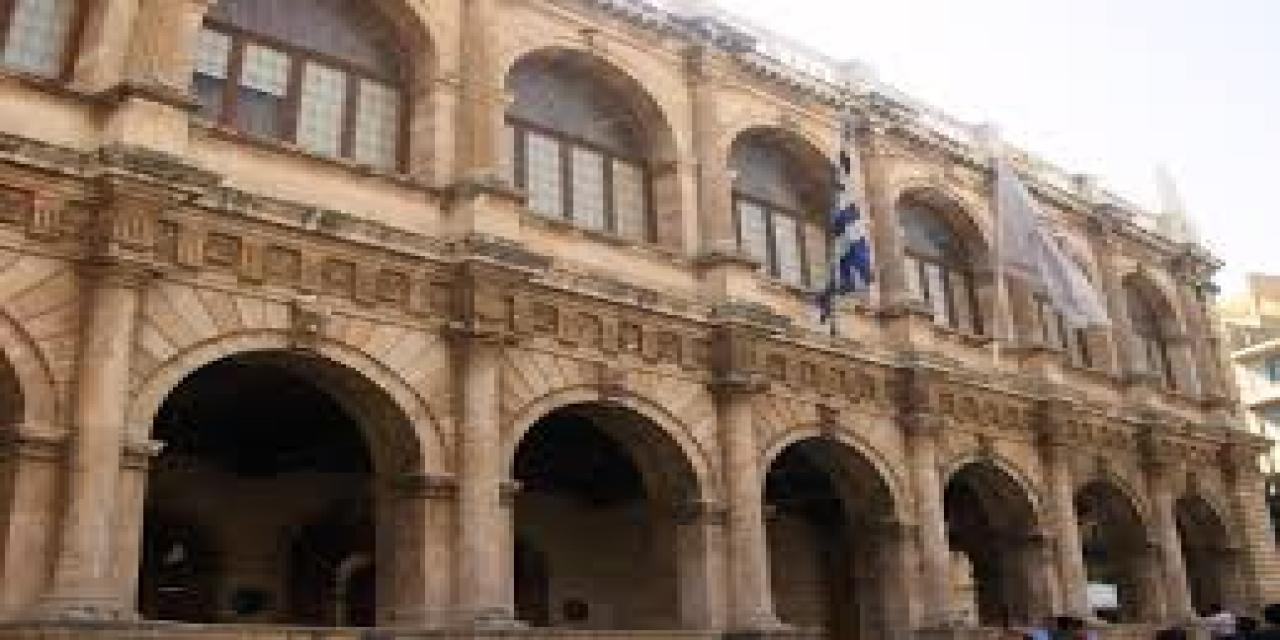Loggia: (1, 1, 1277, 640)
